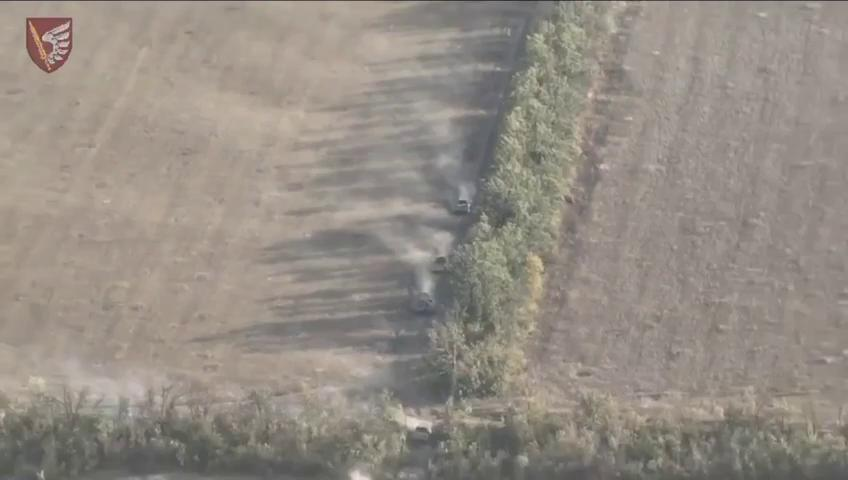tank: (410, 286, 437, 317), (427, 246, 454, 277), (411, 419, 441, 445), (450, 191, 473, 218)
